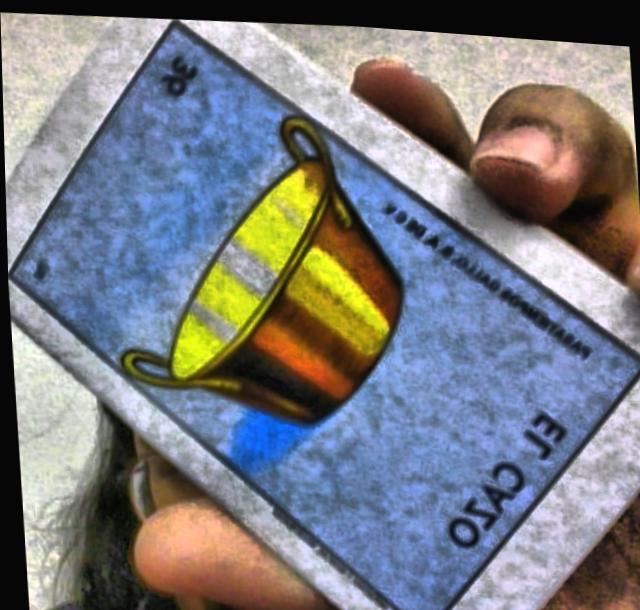El Cazo: (7, 15, 640, 610)
